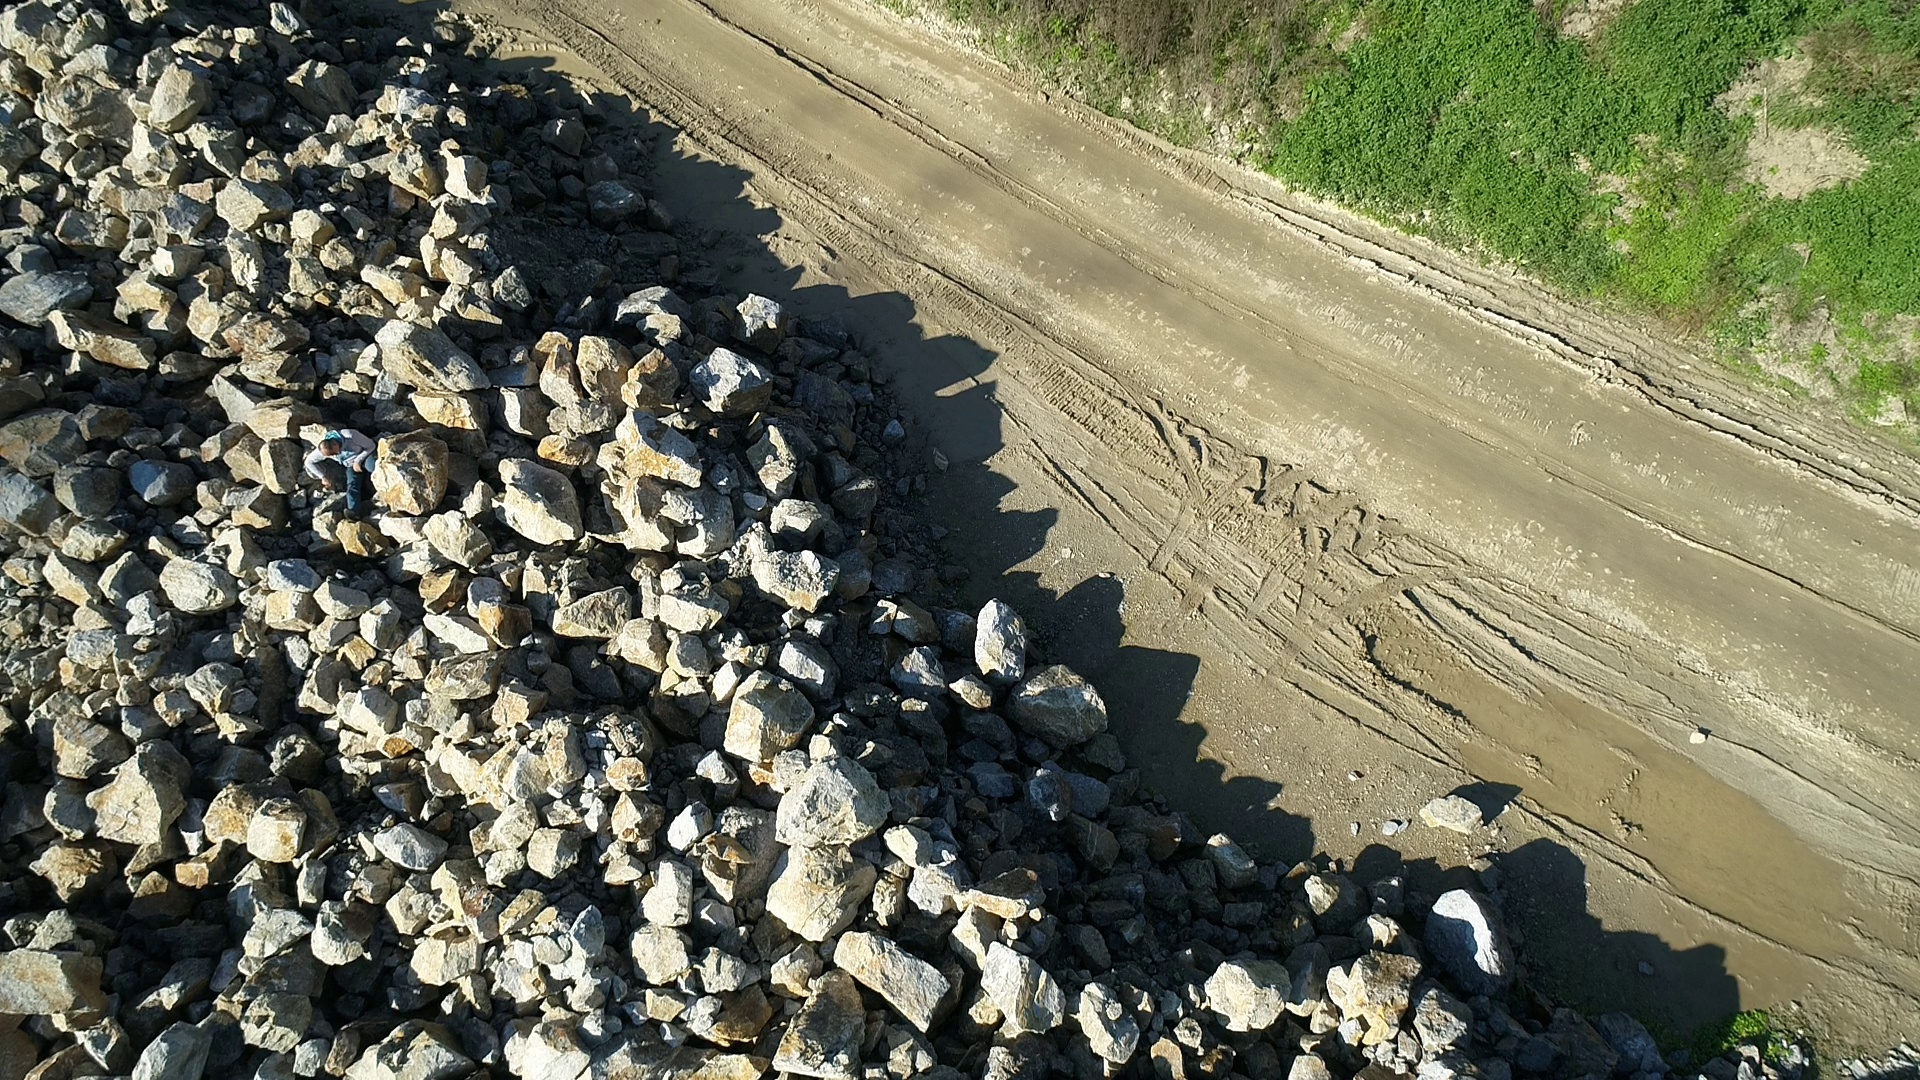person: (302, 429, 377, 522)
